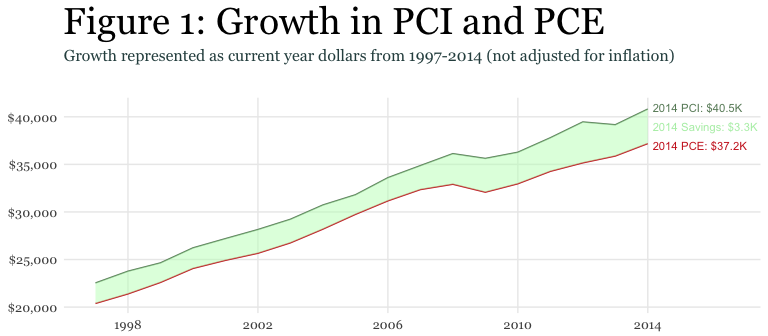

Layout of this report page (visuals, bound fields, positions):
{"tool":"tableau","page":{"name":"Dashboard 1","canvas":[540,340],"ordinal":0},"visuals":[{"type":"worksheet","title":"Sheet 1","mark":"Automatic","rows":["TFP"],"cols":["Decade"],"box":[5,9,526,309]},{"type":"text","box":[38,324,489,11]}]}

Visuals, with their boxes on the page's 540x340 design canvas (x1, y1, x2, y2). These are canvas units, not pixel positions in the 768x336 screenshot, which may show the page scaled, cropped or inside an application window:
"Sheet 1" worksheet: x1=5 y1=9 x2=531 y2=318
text: x1=38 y1=324 x2=527 y2=335
